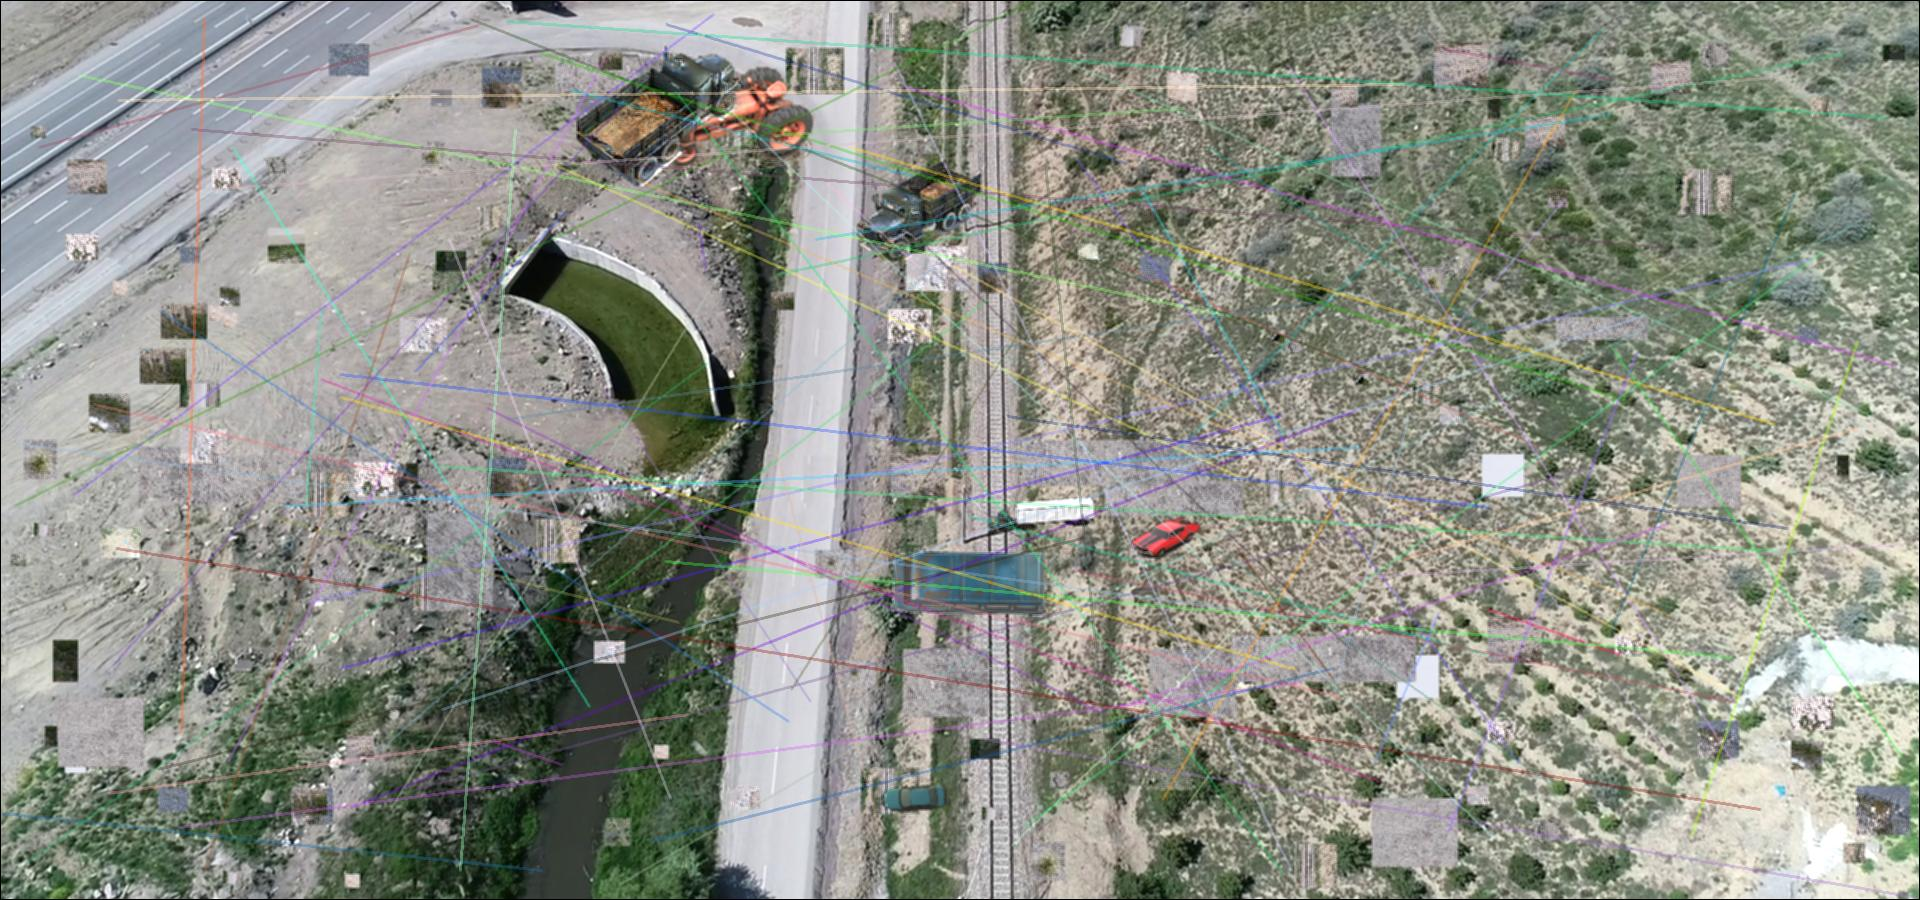arac: (577, 43, 744, 186), (658, 66, 818, 171), (857, 157, 982, 261), (888, 545, 1051, 620), (989, 495, 1095, 533), (1129, 518, 1202, 558), (880, 784, 947, 812)
